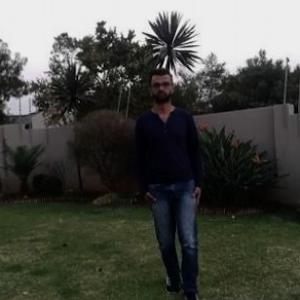follow: (146, 86, 202, 276)
